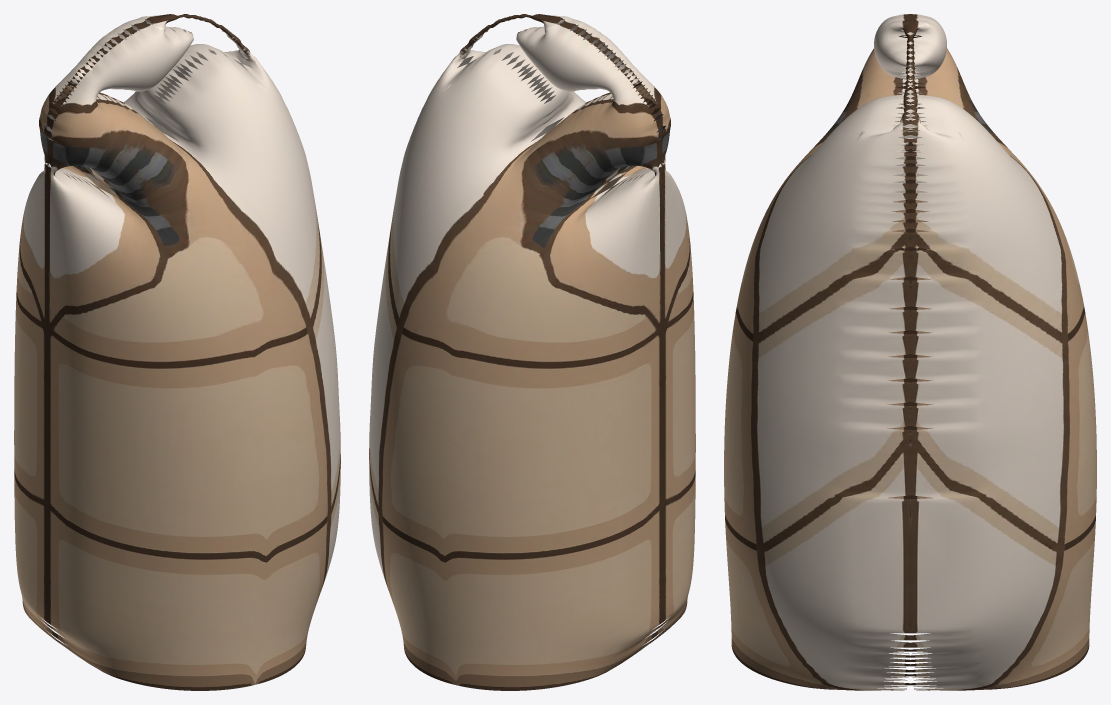
File: rounded_wall_housing.glb
3 renders of one model, left to right at view 1: azimuth 30°, elevation 25°; view 2: azimuth 150°, elevation 25°; view 3: azimuth 270°, elevation 25°, orthographic.
Visible parts, largest first — view 1: rounded_wall_housing; view 2: rounded_wall_housing; view 3: rounded_wall_housing.
Boxes of the visible parts, bbox=[...] form: rounded_wall_housing: bbox=[14, 14, 340, 690]; rounded_wall_housing: bbox=[369, 14, 695, 690]; rounded_wall_housing: bbox=[724, 14, 1096, 690].
Size of the model in its own units: 0.9761 by 2.16 by 1.18.
Materials: 1 (1 with a texture image).
